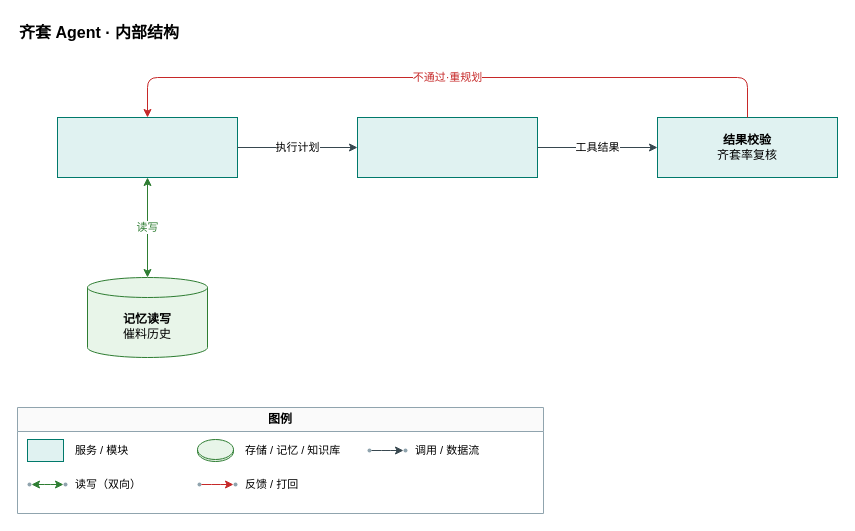
The diagram is 855 pixels wide and 531 high, and some of its shapes have lost their labels. The shapes that lost their labels are listed below. From the top down, each one's centre as x and y in pixels, then its label:
At pixel 147 147: "规划器 拆解齐套任务".
At pixel 447 147: "工具调用 ERP / WMS / SRM".
